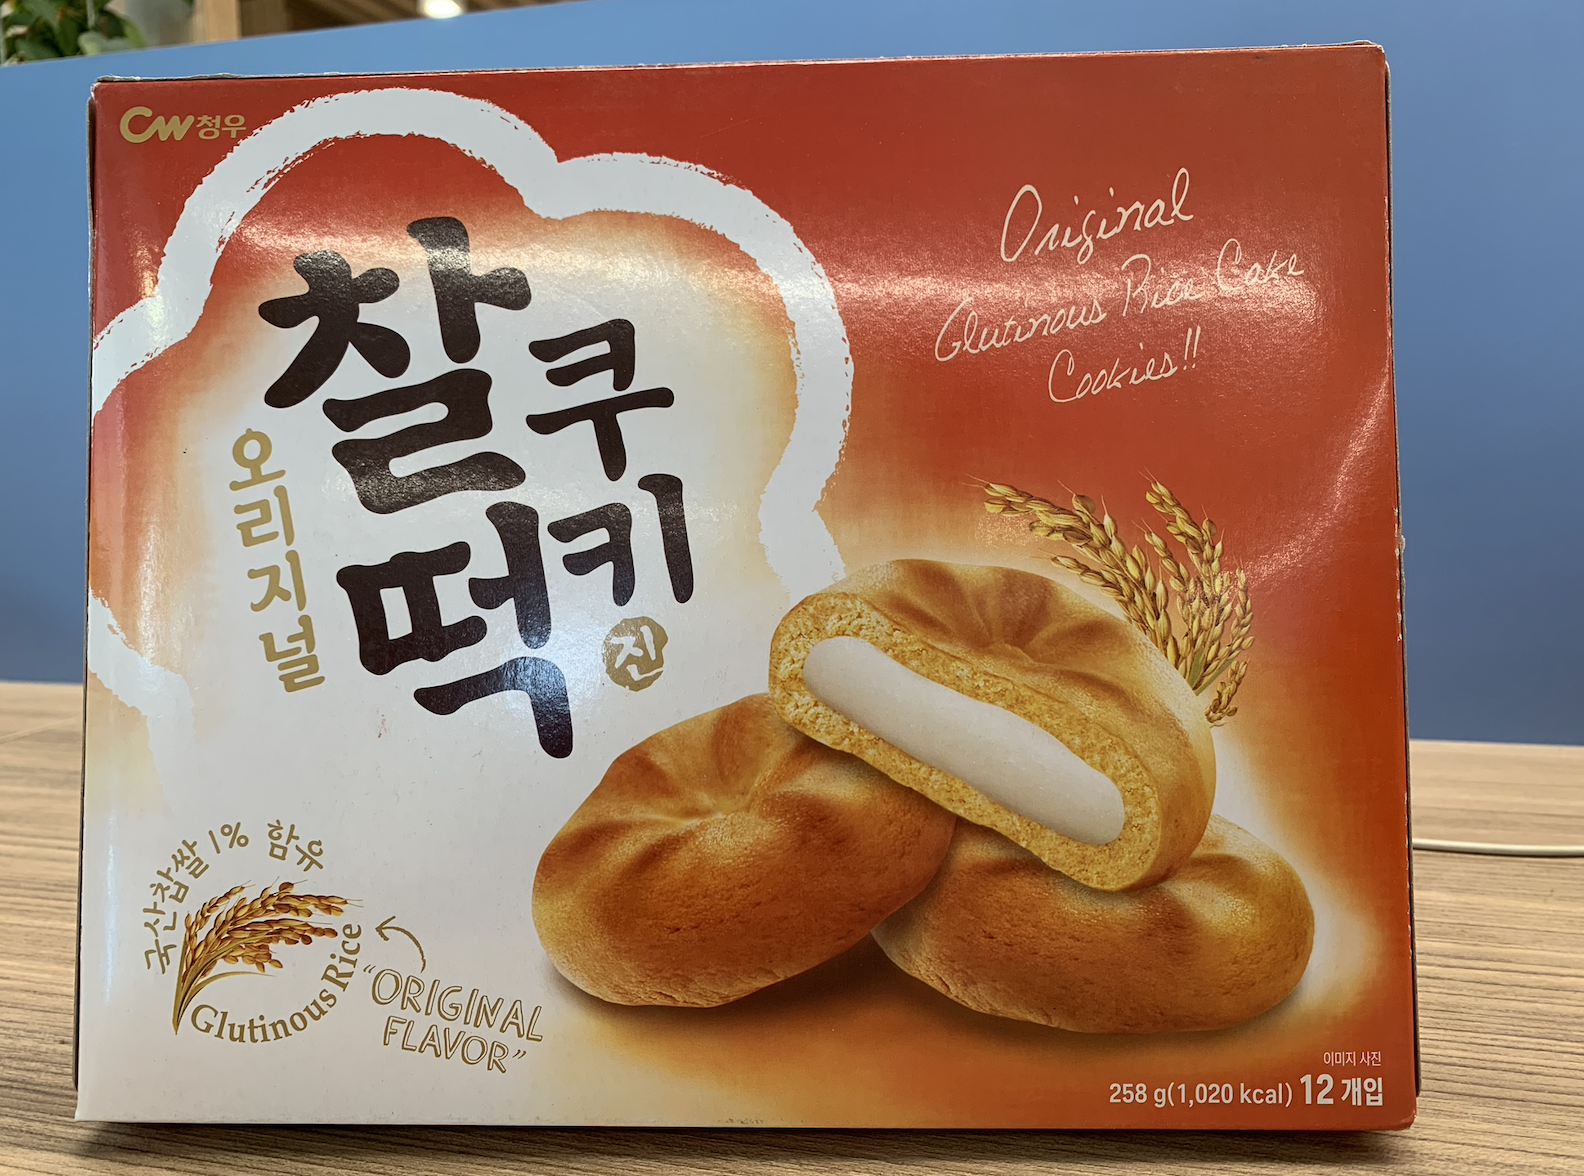cookies_200g-299g: (127, 93, 1400, 1111)
